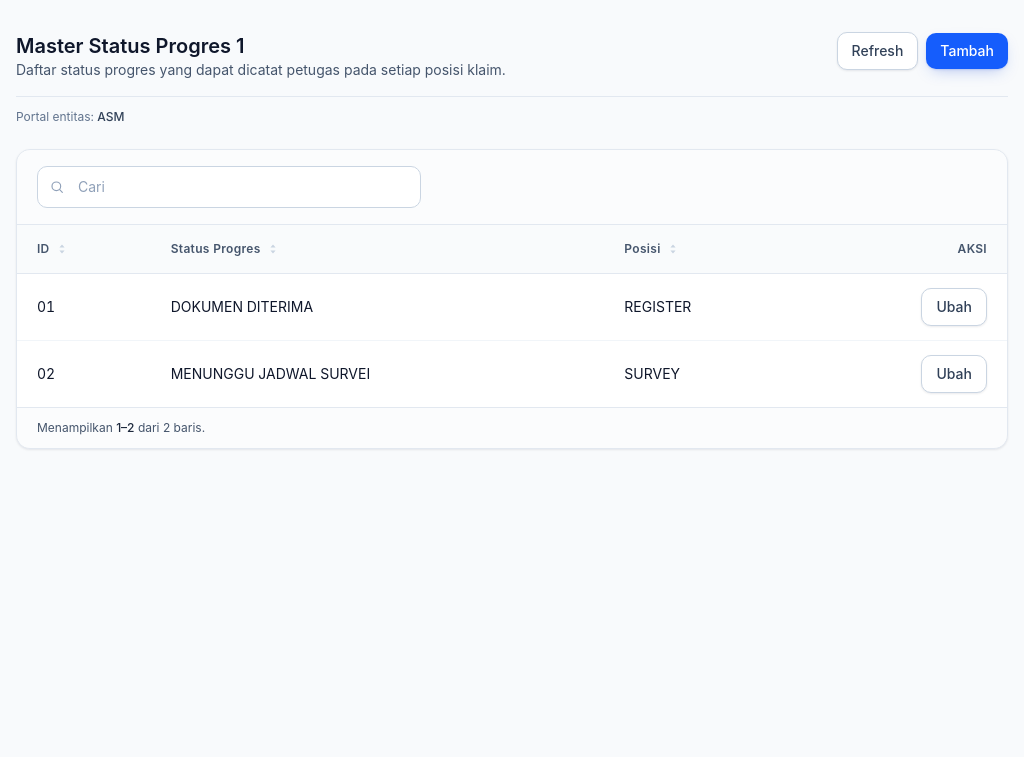
Test: penambahan › menolak nama kosong tanpa menembak server
This screenshot has width=1024, height=757.
Click the button "Tambah" at [967, 51], box [926,33,1008,69]
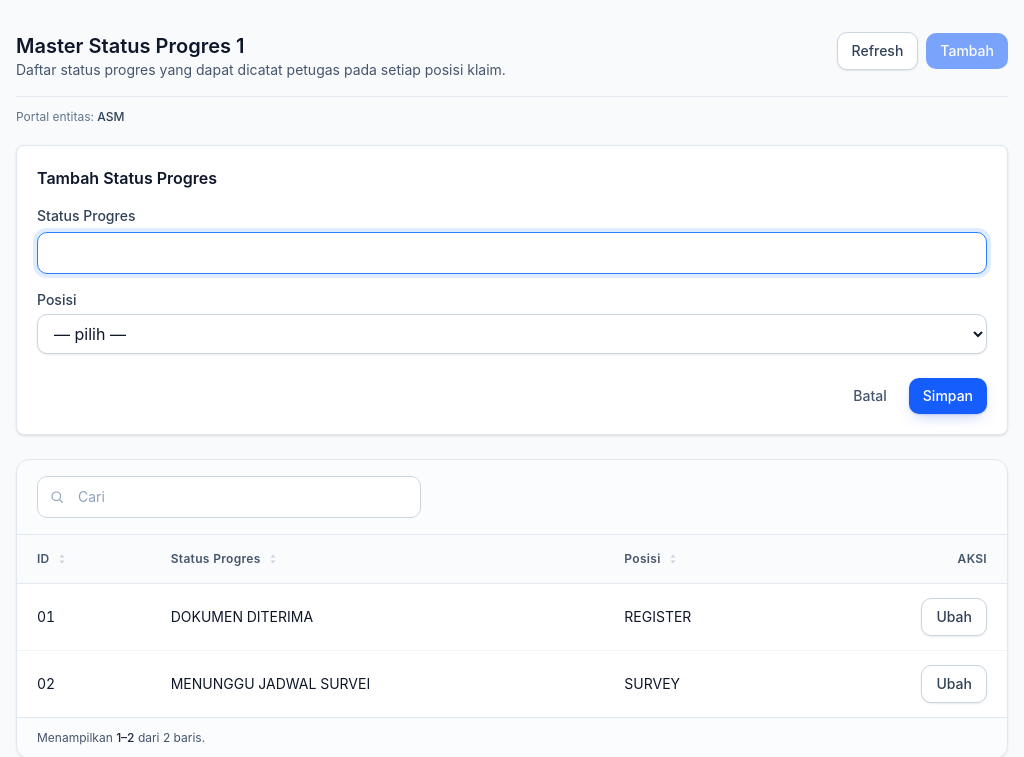
Select "REGISTER" in the dropdown labelled "Posisi" at [512, 334], box [37,314,987,354]
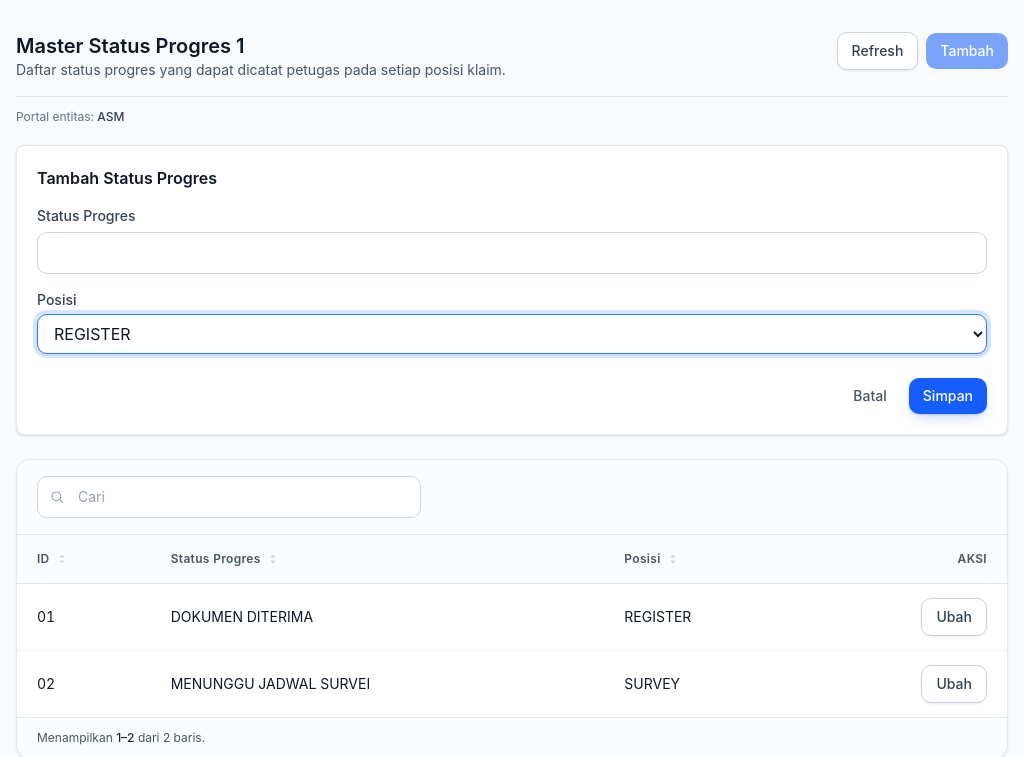
Click the button "Simpan" at [948, 396], box [909,378,987,414]
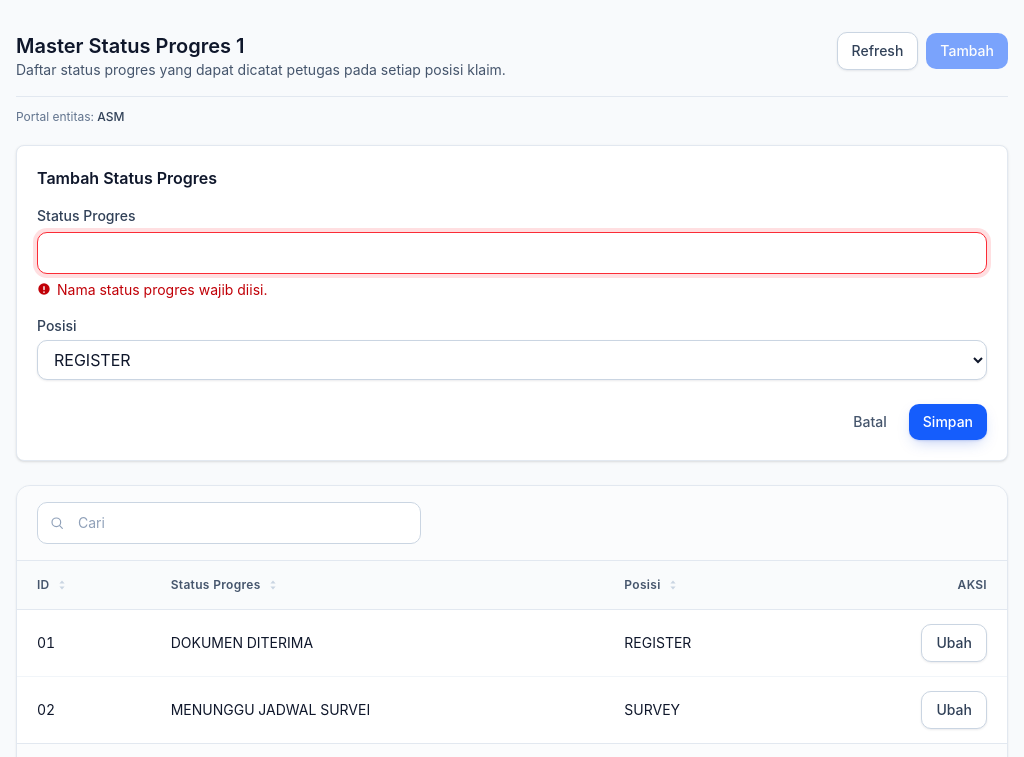
Result: the text "Nama status progres wajib diisi." is shown at [57,280,268,300]
